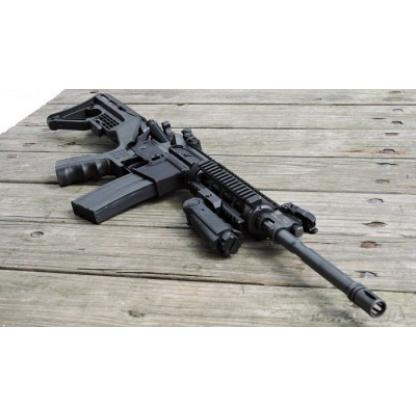gun: (50, 92, 388, 316)
